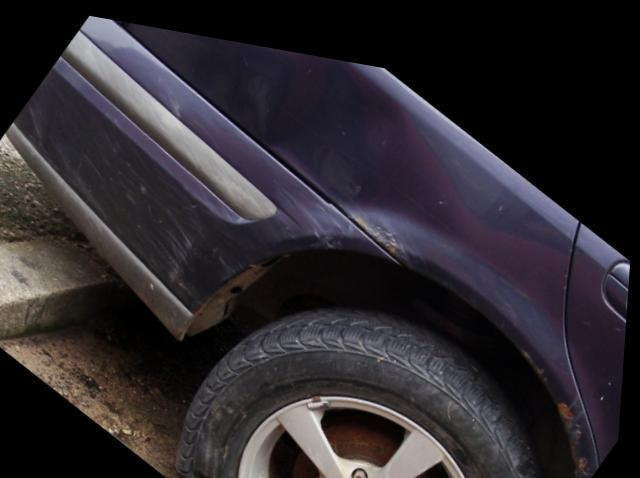dent: (205, 35, 463, 254)
scratch: (60, 134, 203, 282)
tire flat: (180, 290, 550, 478)
